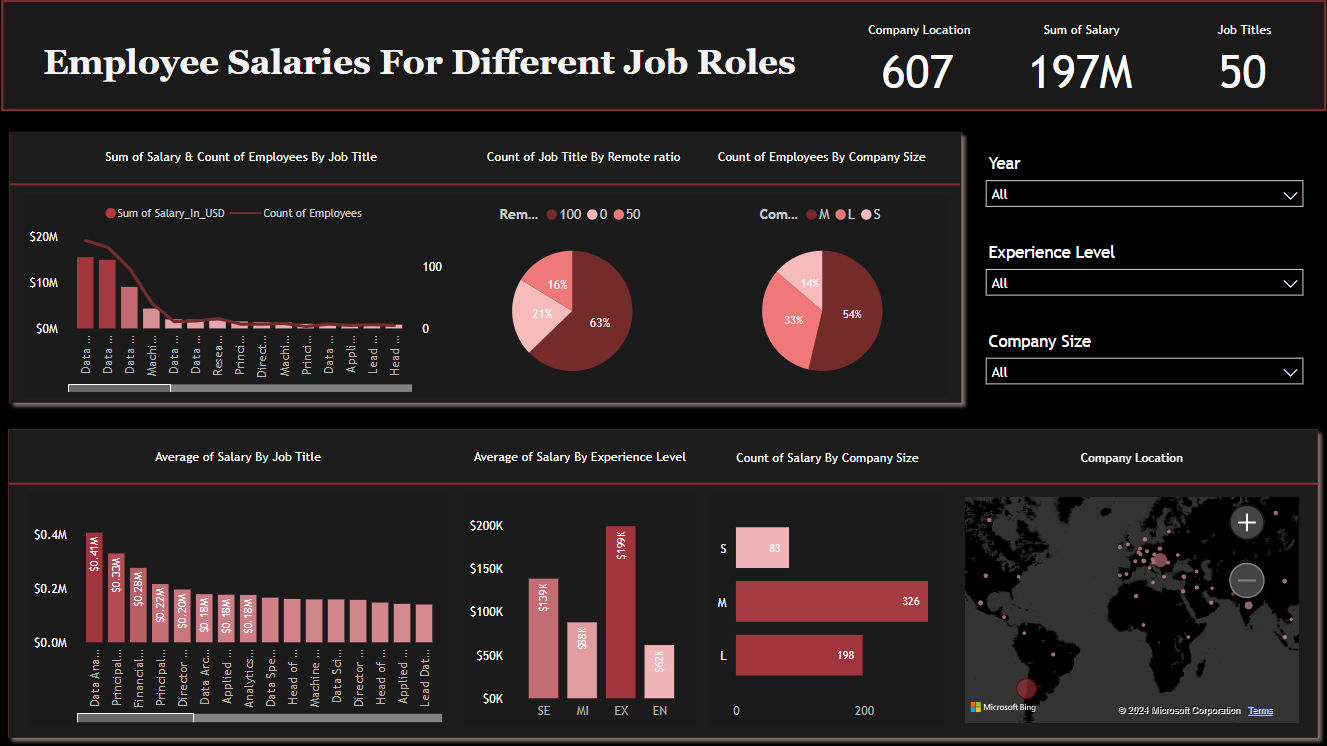

This screenshot's page, from the dashboard's own definition file:
{"tool":"powerbi","page":{"name":"Page 1","canvas":[1280,720],"ordinal":0},"visuals":[{"type":"shape","box":[1.2,0,1278.4,107.3],"z":0,"group":"g1"},{"type":"shape","box":[24.1,15.7,761,88],"z":1000,"group":"g1"},{"type":"card","fields":{"Values":["CountNonNull(ds_salaries.company_location)"]},"box":[806.8,31.4,156.8,72.4],"z":2000,"group":"g1"},{"type":"card","fields":{"Values":["Sum(ds_salaries.salary)"]},"box":[963.6,31.4,156.8,72.4],"z":3000,"group":"g1"},{"type":"card","fields":{"Values":["Count(ds_salaries.job_title)"]},"box":[1120.4,31.4,156.8,72.4],"z":4000,"group":"g1"},{"type":"slicer","fields":{"Values":["ds_salaries.work_year"]},"box":[940.5,143.3,326.8,74.8],"z":5000,"group":"g1"},{"type":"slicer","fields":{"Values":["ds_salaries.experience_level"]},"box":[940.5,228.9,326.8,74.8],"z":6000,"group":"g1"},{"type":"slicer","fields":{"Values":["ds_salaries.company_size"]},"box":[940.5,314.5,326.8,74.8],"z":7000,"group":"g1"},{"type":"shape","box":[1.2,119.4,934.7,277.4],"z":8000,"group":"g1"},{"type":"pieChart","fields":{"Category":["ds_salaries.remote_ratio"],"Y":["CountNonNull(ds_salaries.job_title)"]},"box":[431.8,186.9,241.2,196.6],"z":9000,"group":"g1"},{"type":"lineStackedColumnComboChart","fields":{"Y":["Sum(ds_salaries.salary_in_usd)"],"Y2":["CountNonNull(ds_salaries.Column1)"],"Category":["ds_salaries.job_title"]},"box":[22.9,186.9,408.8,196.6],"z":10000,"group":"g1"},{"type":"pieChart","fields":{"Category":["ds_salaries.company_size"],"Y":["CountNonNull(ds_salaries.Column1)"]},"box":[673,186.9,241.2,196.6],"z":11000,"group":"g1"},{"type":"shape","box":[0,406.4,1279.6,313.6],"z":12000,"group":"g1"},{"type":"barChart","fields":{"Category":["ds_salaries.company_size"],"Y":["CountNonNull(ds_salaries.salary)"]},"box":[686.6,475.2,224.3,226.7],"z":13000,"group":"g1"},{"type":"clusteredColumnChart","fields":{"Y":["Avg(ds_salaries.salary_in_usd)"],"Category":["ds_salaries.job_title"]},"box":[27.7,475.2,404,226.7],"z":14000,"group":"g1"},{"type":"clusteredColumnChart","fields":{"Y":["Avg(ds_salaries.salary_in_usd)"],"Category":["ds_salaries.experience_level"]},"box":[447,475.2,224.3,226.7],"z":15000,"group":"g1"},{"type":"textbox","box":[85.6,137.5,294.3,36.2],"z":16000,"group":"g1"},{"type":"textbox","box":[679,137.5,227.9,36.2],"z":17000,"group":"g1"},{"type":"textbox","box":[460.7,137.5,205,36.2],"z":18000,"group":"g1"},{"type":"shape","box":[9.6,168.8,916.6,18.1],"z":19000,"group":"g1"},{"type":"textbox","box":[686.2,428.1,224.3,31.4],"z":20000,"group":"g1"},{"type":"textbox","box":[447.4,426.9,224.3,32.6],"z":21000,"group":"g1"},{"type":"textbox","box":[27.7,426.9,404,32.6],"z":22000,"group":"g1"},{"type":"shape","box":[8.4,458.3,1263.9,16.9],"z":23000,"group":"g1"},{"type":"map","fields":{"Category":["ds_salaries.company_location"],"Size":["Avg(ds_salaries.salary)"]},"box":[926.2,475.2,331.7,226.7],"z":24000,"group":"g1"},{"type":"textbox","box":[926.2,428.1,331.7,31.4],"z":25000,"group":"g1"},{"type":"textbox","box":[824.9,15.7,124.2,32.6],"z":26000,"group":"g1"},{"type":"textbox","box":[981.7,15.7,124.2,32.6],"z":27000,"group":"g1"},{"type":"textbox","box":[1138.5,15.7,124.2,32.6],"z":28000,"group":"g1"},{"type":"group","id":"g1","title":"Group 1","box":[0,0,1279.6,720],"z":28001}]}

Visuals, with their boxes in screenshot pixels (x1, y1, x2, y2), scaled from the page's 1280x720 canvas onto the 1327x746 screenshot:
shape: <bbox>1, 0, 1326, 111</bbox>
shape: <bbox>25, 16, 814, 107</bbox>
card - CountNonNull(ds_salaries.company_location): <bbox>836, 33, 999, 108</bbox>
card - Sum(ds_salaries.salary): <bbox>999, 33, 1162, 108</bbox>
card - Count(ds_salaries.job_title): <bbox>1162, 33, 1324, 108</bbox>
slicer - ds_salaries.work_year: <bbox>975, 148, 1314, 226</bbox>
slicer - ds_salaries.experience_level: <bbox>975, 237, 1314, 315</bbox>
slicer - ds_salaries.company_size: <bbox>975, 326, 1314, 403</bbox>
shape: <bbox>1, 124, 970, 411</bbox>
pieChart - ds_salaries.remote_ratio x CountNonNull(ds_salaries.job_title): <bbox>448, 194, 698, 397</bbox>
lineStackedColumnComboChart - Sum(ds_salaries.salary_in_usd) x CountNonNull(ds_salaries.Column1): <bbox>24, 194, 448, 397</bbox>
pieChart - ds_salaries.company_size x CountNonNull(ds_salaries.Column1): <bbox>698, 194, 948, 397</bbox>
shape: <bbox>0, 421, 1326, 745</bbox>
barChart - ds_salaries.company_size x CountNonNull(ds_salaries.salary): <bbox>712, 492, 944, 727</bbox>
clusteredColumnChart - Avg(ds_salaries.salary_in_usd) x ds_salaries.job_title: <bbox>29, 492, 448, 727</bbox>
clusteredColumnChart - Avg(ds_salaries.salary_in_usd) x ds_salaries.experience_level: <bbox>463, 492, 696, 727</bbox>
textbox: <bbox>89, 142, 394, 180</bbox>
textbox: <bbox>704, 142, 940, 180</bbox>
textbox: <bbox>478, 142, 690, 180</bbox>
shape: <bbox>10, 175, 960, 194</bbox>
textbox: <bbox>711, 444, 944, 476</bbox>
textbox: <bbox>464, 442, 696, 476</bbox>
textbox: <bbox>29, 442, 448, 476</bbox>
shape: <bbox>9, 475, 1319, 492</bbox>
map - ds_salaries.company_location x Avg(ds_salaries.salary): <bbox>960, 492, 1304, 727</bbox>
textbox: <bbox>960, 444, 1304, 476</bbox>
textbox: <bbox>855, 16, 984, 50</bbox>
textbox: <bbox>1018, 16, 1147, 50</bbox>
textbox: <bbox>1180, 16, 1309, 50</bbox>
"Group 1" group: <bbox>0, 0, 1326, 745</bbox>
